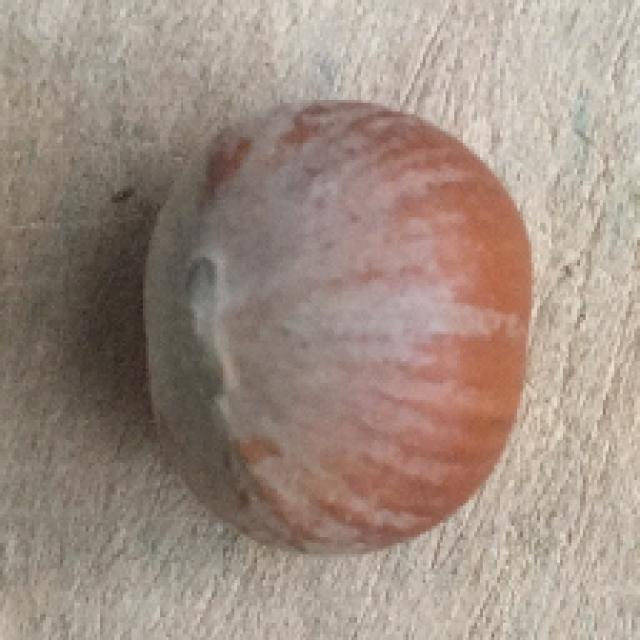qualityHazelnut: (146, 95, 534, 554)
